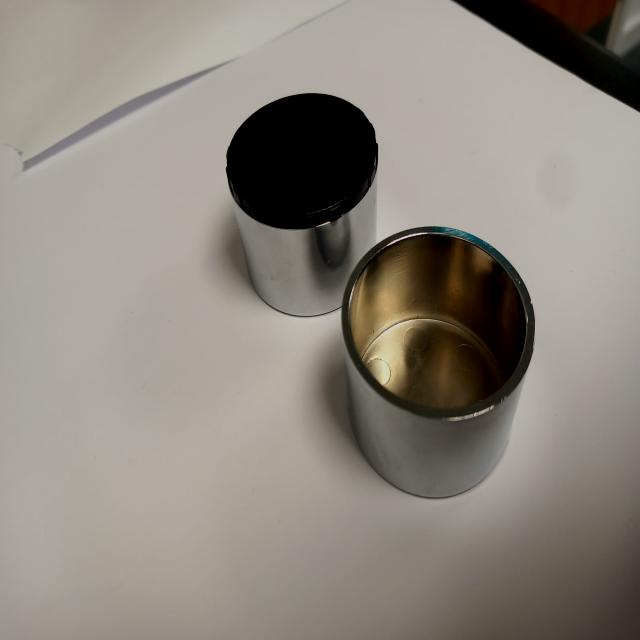NoLid: (338, 267, 539, 479)
Workpiece: (210, 77, 381, 330)
